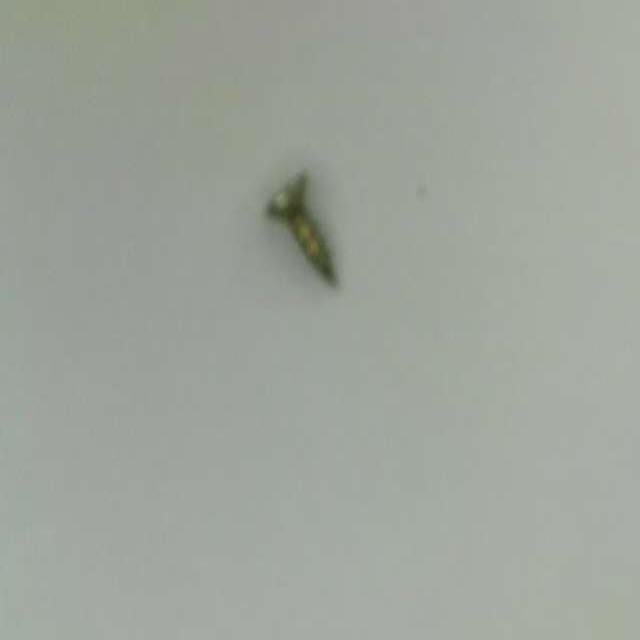Parafuso: (267, 173, 335, 283)
